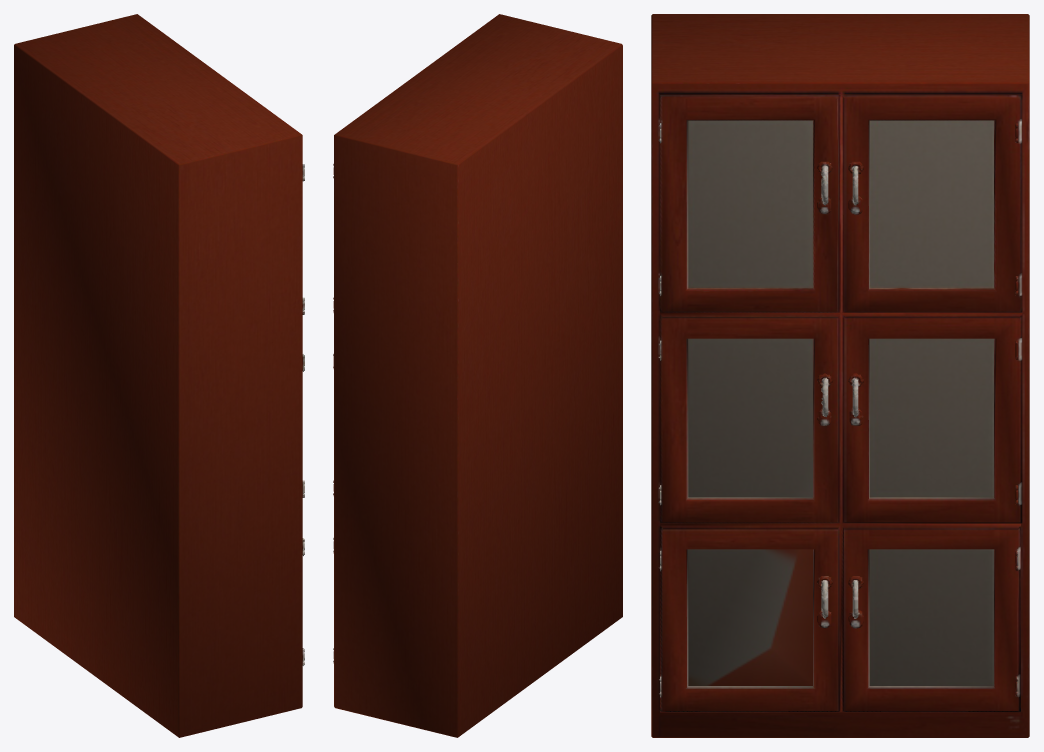
File: tugohaicanh.fbx
3 views of the same model, side by side, from view 1: azimuth 30°, elevation 25°; view 2: azimuth 150°, elevation 25°; view 3: azimuth 270°, elevation 25° (orthographic). The views are drawn at different scales.
Visible parts, largest first — view 1: tripo_node_4b7a58a5; view 2: tripo_node_4b7a58a5; view 3: tripo_node_4b7a58a5.
Part boxes in pixels (x1,y1,x2,y2): tripo_node_4b7a58a5: (14, 14, 304, 737); tripo_node_4b7a58a5: (333, 14, 622, 737); tripo_node_4b7a58a5: (651, 14, 1029, 737).
Size of the model in its own units: 25.59 by 99.8 by 52.15.
1 material, 1 textured.
